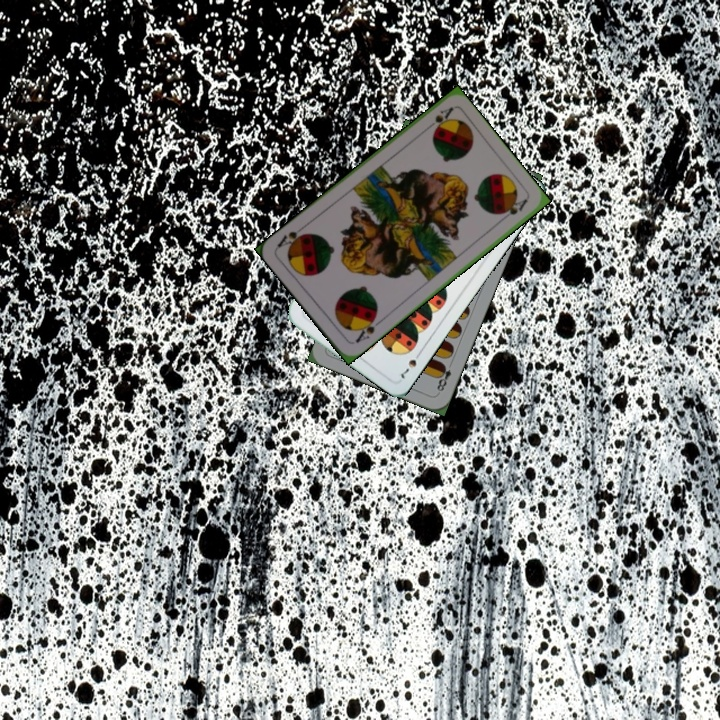E8: (433, 358, 455, 396)
S7: (397, 347, 425, 381)
SA: (351, 311, 384, 346), (421, 103, 456, 134)
